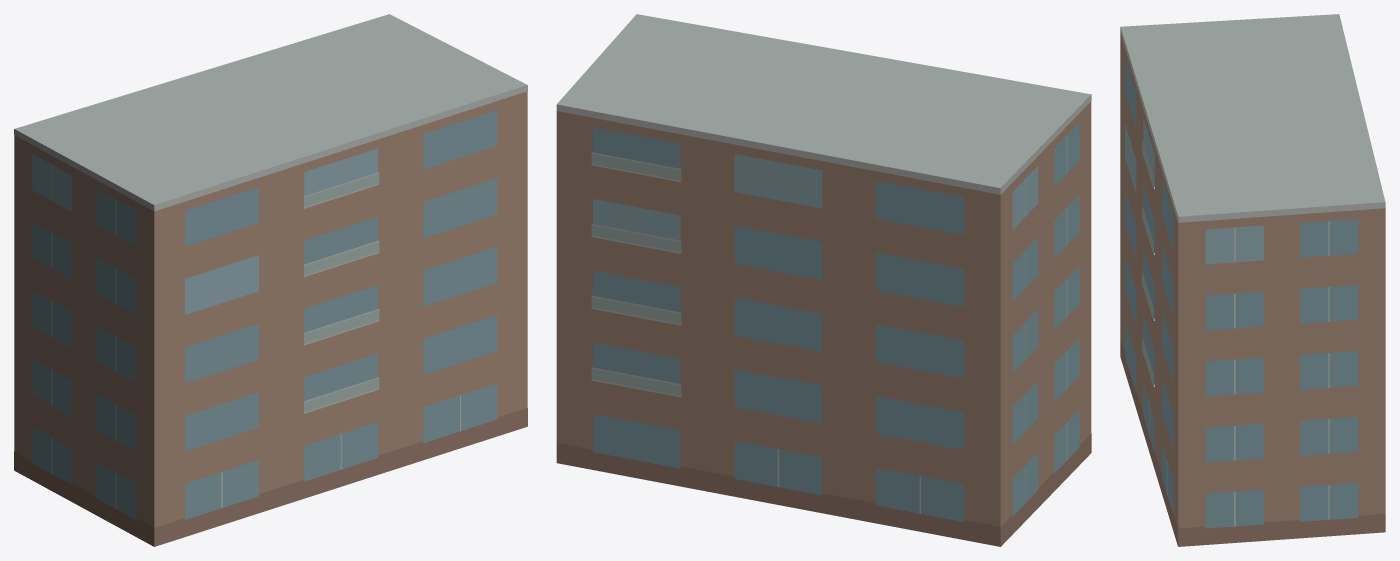
File: survey-upis-32530284.glb
The picture shows the model from 3 angles, left to right: view 1: azimuth 30°, elevation 25°; view 2: azimuth 150°, elevation 25°; view 3: azimuth 270°, elevation 25°; orthographic projection. The views are drawn at different scales.
Parts seen in each view (by area): view 1: survey-upis-32530284.tmp; view 2: survey-upis-32530284.tmp; view 3: survey-upis-32530284.tmp.
Part boxes in pixels (x1=…): survey-upis-32530284.tmp: x1=14, y1=14, x2=527, y2=546; survey-upis-32530284.tmp: x1=556, y1=14, x2=1091, y2=546; survey-upis-32530284.tmp: x1=1120, y1=14, x2=1385, y2=546.
Bounding box in the file's own units: 17.6 × 13.35 × 9.73.
